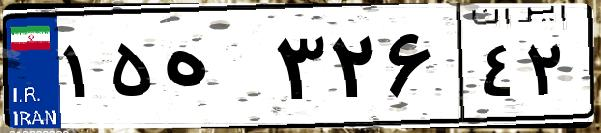1: (57, 26, 110, 100)
2: (330, 28, 385, 110), (525, 38, 570, 115)
3: (270, 28, 330, 110)
4: (475, 38, 525, 113)
5: (110, 28, 158, 98)
6: (385, 28, 445, 110)
ه: (158, 20, 270, 120)
